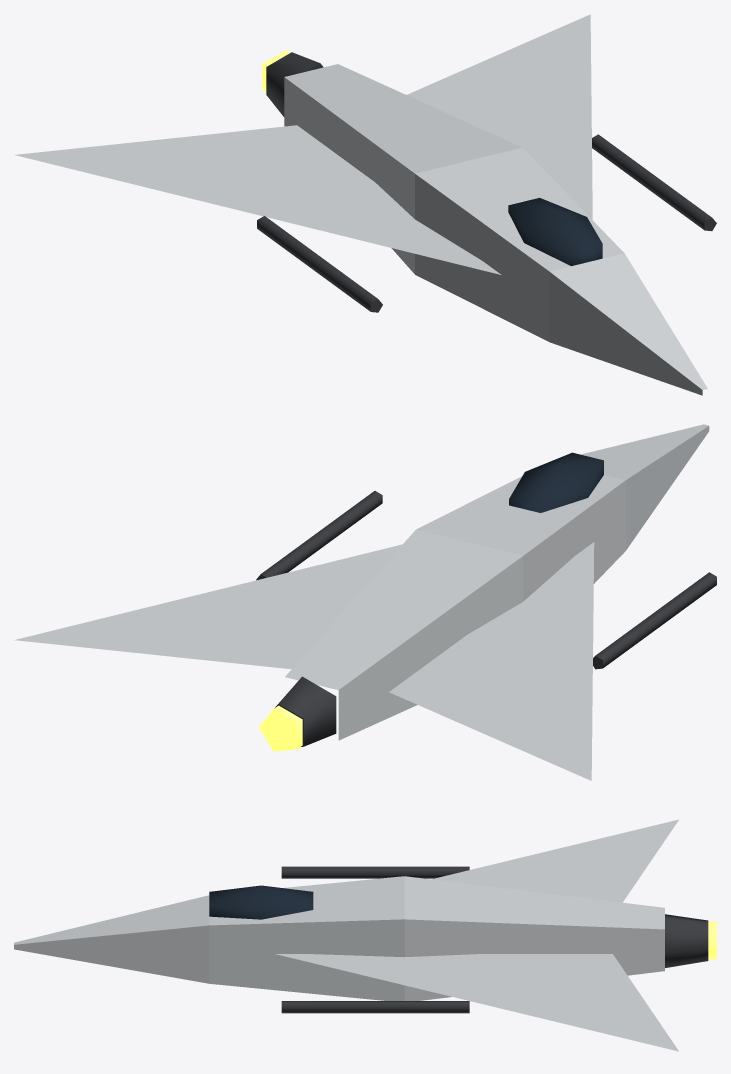
File: space_ship_interceptor_mk1_lod1.glb
The picture shows the model from 3 angles, top to bottom: view 1: azimuth 30°, elevation 25°; view 2: azimuth 150°, elevation 25°; view 3: azimuth 270°, elevation 25°; orthographic projection. The views are drawn at different scales.
Visible parts, largest first — view 1: body, gun_r, gun_l, engine_0; view 2: body, engine_0, gun_r, gun_l; view 3: body, gun_l, engine_0, gun_r.
Boxes of the visible parts, <box> form: body: <box>15,14,707,395</box>; gun_r: <box>257,216,382,312</box>; gun_l: <box>592,134,716,231</box>; engine_0: <box>262,50,323,116</box>; body: <box>14,424,709,780</box>; engine_0: <box>259,676,336,751</box>; gun_r: <box>593,572,716,669</box>; gun_l: <box>256,491,382,580</box>; body: <box>14,819,678,1051</box>; gun_l: <box>281,1001,469,1013</box>; engine_0: <box>665,914,716,967</box>; gun_r: <box>281,866,469,878</box>.
Size of the model in its own units: 7.6 by 1.45 by 9.72.
